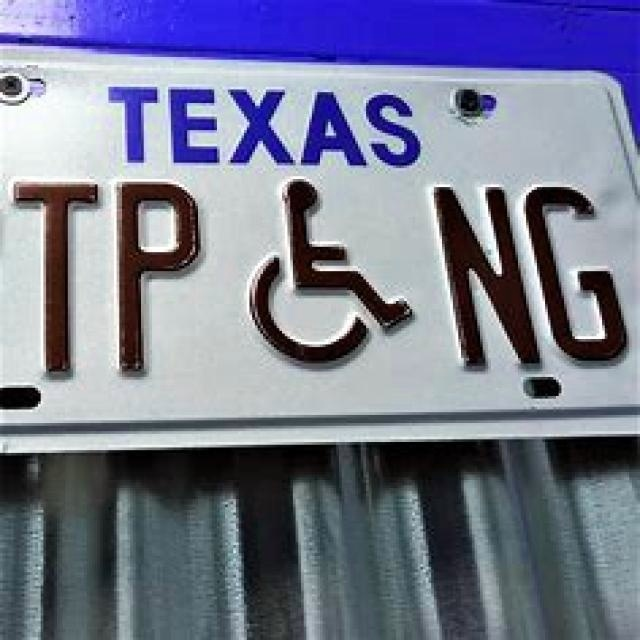ISA: (246, 175, 420, 370)
